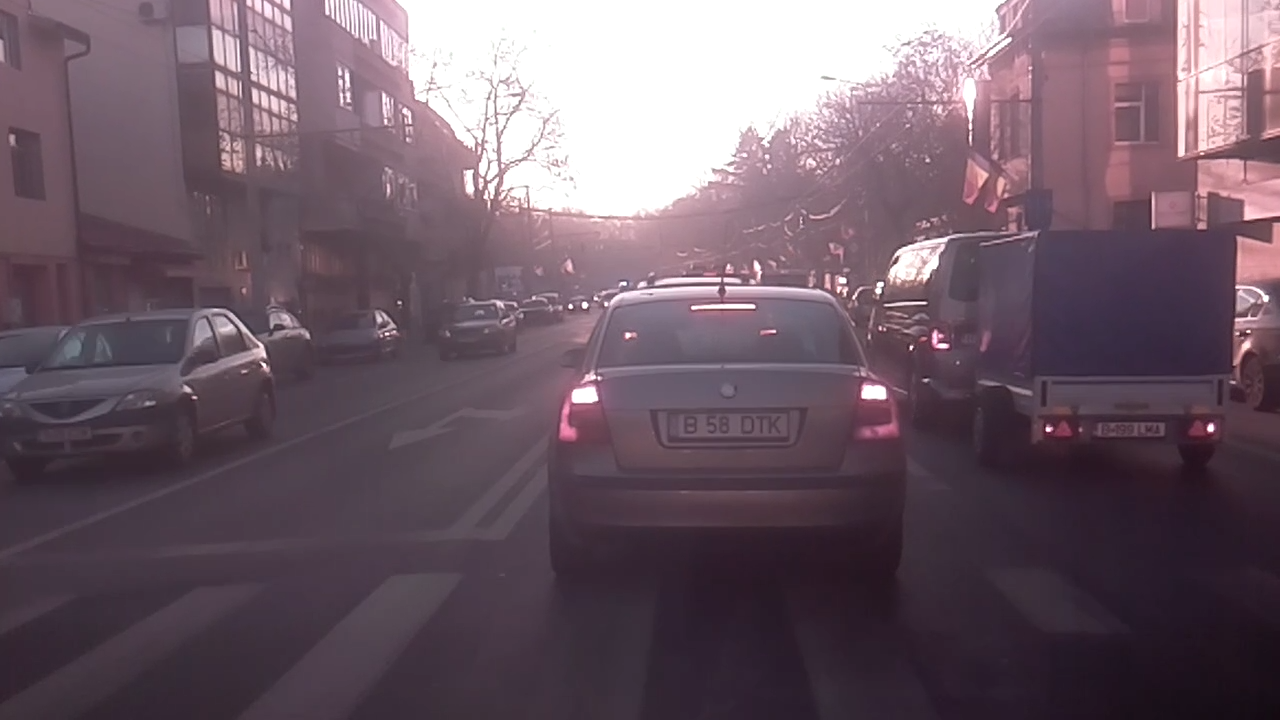license-plate: (663, 406, 794, 443), (1089, 417, 1170, 440)
